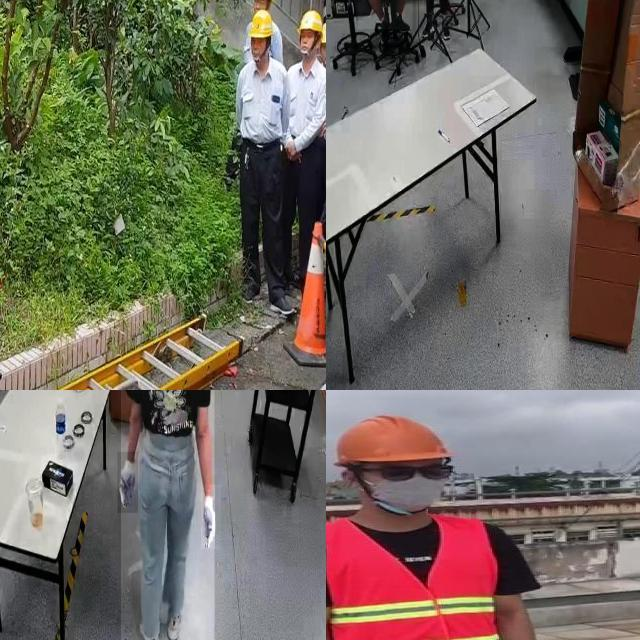hand_glove: (201, 484, 221, 550), (118, 452, 138, 514)
head_helmet: (326, 412, 450, 468)
person: (326, 407, 574, 640), (121, 390, 215, 640), (416, 0, 467, 39)
shoes: (163, 609, 186, 640), (143, 613, 164, 640)
vest: (326, 520, 513, 640)
